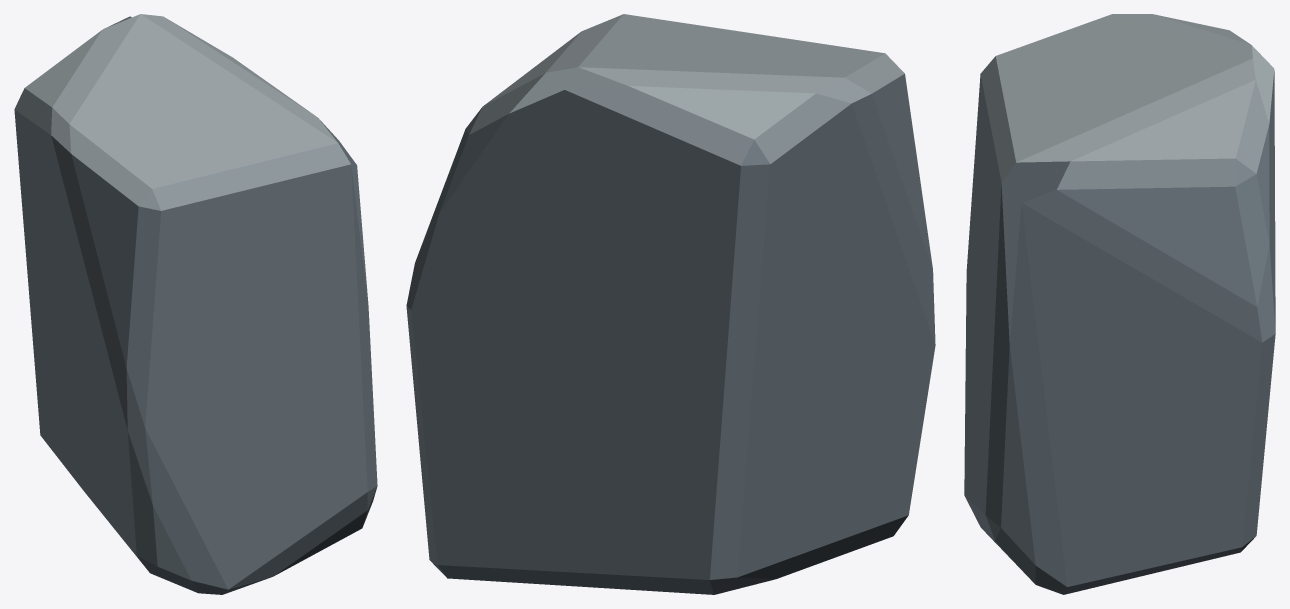
File: boulder-tall.glb
3 views of the same model, side by side, from view 1: azimuth 30°, elevation 25°; view 2: azimuth 150°, elevation 25°; view 3: azimuth 270°, elevation 25° (orthographic). The views are drawn at different scales.
Parts seen in each view (by area): view 1: boulder-tall; view 2: boulder-tall; view 3: boulder-tall.
Part boxes in pixels (left/top/right/bottom): boulder-tall: left=14, top=14, right=377, bottom=594; boulder-tall: left=406, top=14, right=935, bottom=594; boulder-tall: left=964, top=14, right=1275, bottom=594.
Bounding box in the file's own units: 0.7737 × 1.23 × 0.7263.
